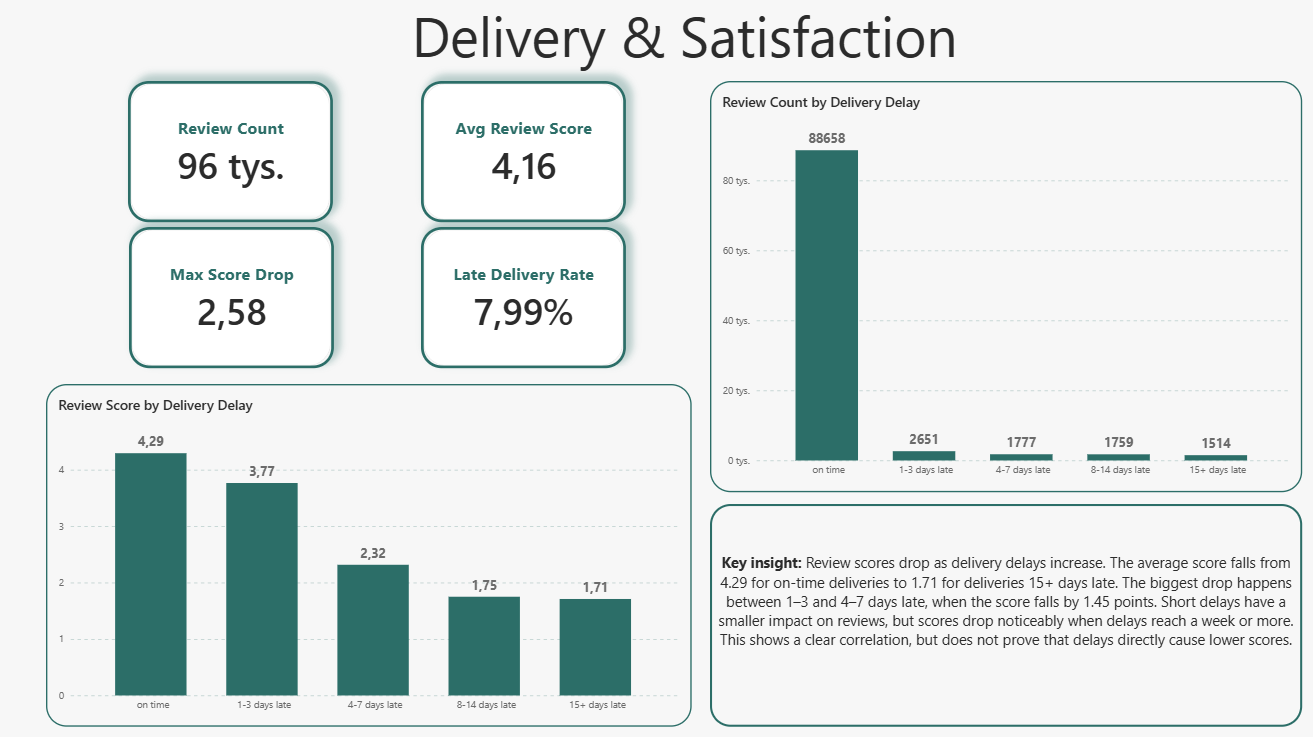

Layout of this report page (visuals, bound fields, positions):
{"tool":"powerbi","page":{"name":"Delivery & Satisfaction","canvas":[1920,1080],"ordinal":3},"visuals":[{"type":"cardVisual","fields":{"Data":["analysis vw_delivery_satisfaction.Late Delivery Rate"]},"box":[615.7,334.1,298.6,206],"z":0},{"type":"cardVisual","fields":{"Data":["analysis vw_delivery_satisfaction.Avg Review Score"]},"box":[615.7,121.1,298.6,206],"z":1},{"type":"cardVisual","fields":{"Data":["analysis vw_delivery_satisfaction.Review Count"]},"box":[188.2,121.1,298.6,206],"z":2},{"type":"textbox","box":[80.2,0,1839.8,121.1],"z":3},{"type":"clusteredColumnChart","title":"Review Score by Delivery Delay","fields":{"Category":["analysis vw_delivery_satisfaction.delay_bucket"],"Y":["analysis vw_delivery_satisfaction.Avg Review Score"]},"box":[68.6,563.2,942.5,500.4],"z":4},{"type":"clusteredColumnChart","title":"Review Count by Delivery Delay","fields":{"Category":["analysis vw_delivery_satisfaction.delay_bucket"],"Y":["analysis vw_delivery_satisfaction.Review Count"]},"box":[1037.3,121.1,863.7,599.6],"z":5},{"type":"textbox","box":[1037.3,738.2,863.7,325.3],"z":6},{"type":"cardVisual","fields":{"Data":["analysis vw_delivery_satisfaction.Score Drop"]},"box":[189.7,334.1,298.6,206],"z":7}]}

Visuals, with their boxes in screenshot pixels (x1, y1, x2, y2), scaled from the page's 1920x1080 canvas onto the 1313x737 screenshot:
cardVisual - analysis vw_delivery_satisfaction.Late Delivery Rate: 421,228,625,369
cardVisual - analysis vw_delivery_satisfaction.Avg Review Score: 421,83,625,223
cardVisual - analysis vw_delivery_satisfaction.Review Count: 129,83,333,223
textbox: 55,0,1312,83
"Review Score by Delivery Delay" clusteredColumnChart: 47,384,691,726
"Review Count by Delivery Delay" clusteredColumnChart: 709,83,1300,492
textbox: 709,504,1300,726
cardVisual - analysis vw_delivery_satisfaction.Score Drop: 130,228,334,369
